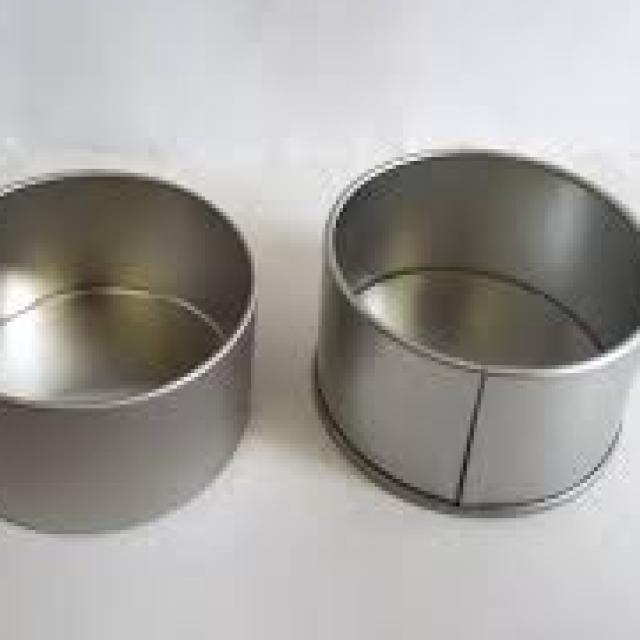organic: (320, 139, 626, 545), (0, 158, 289, 554)
